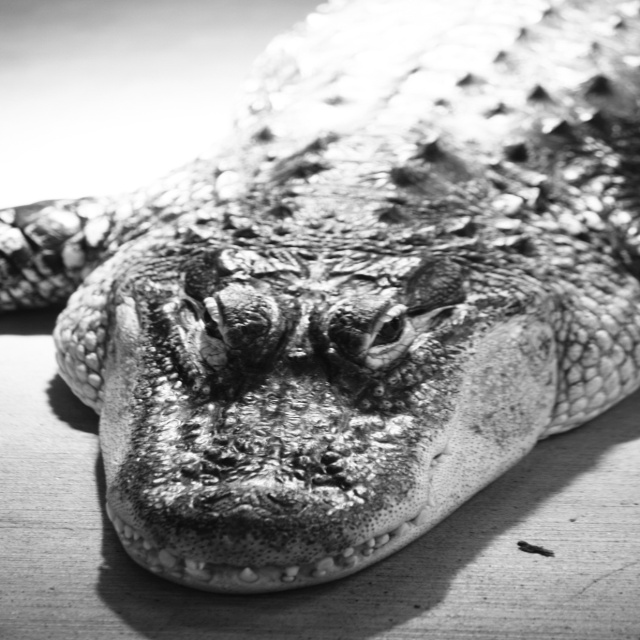Crocodile: (0, 0, 639, 598)
